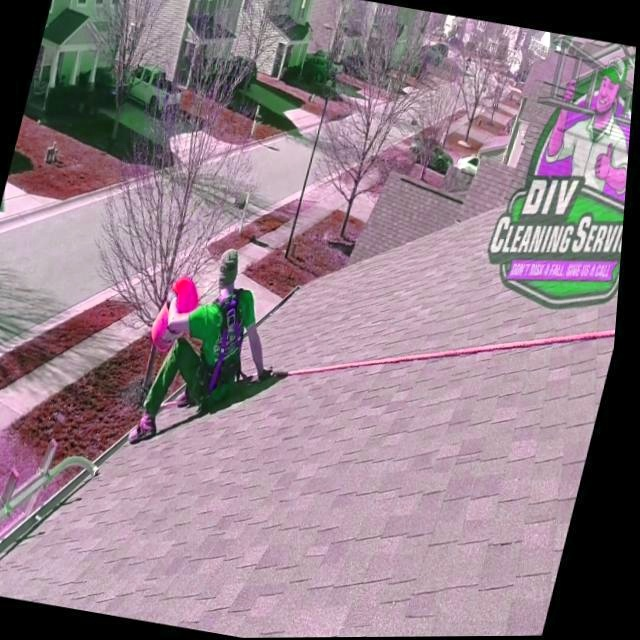safety belt: (189, 305, 260, 393)
